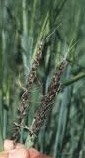Wheat Loose Smut: (12, 43, 67, 138)
